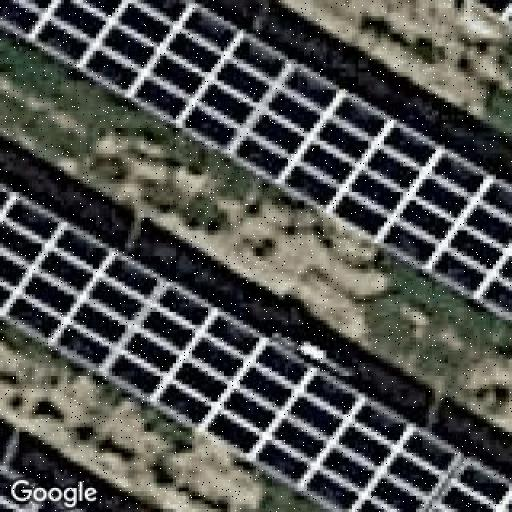solar-panel: (0, 189, 512, 512), (0, 0, 512, 320), (0, 465, 53, 512)
